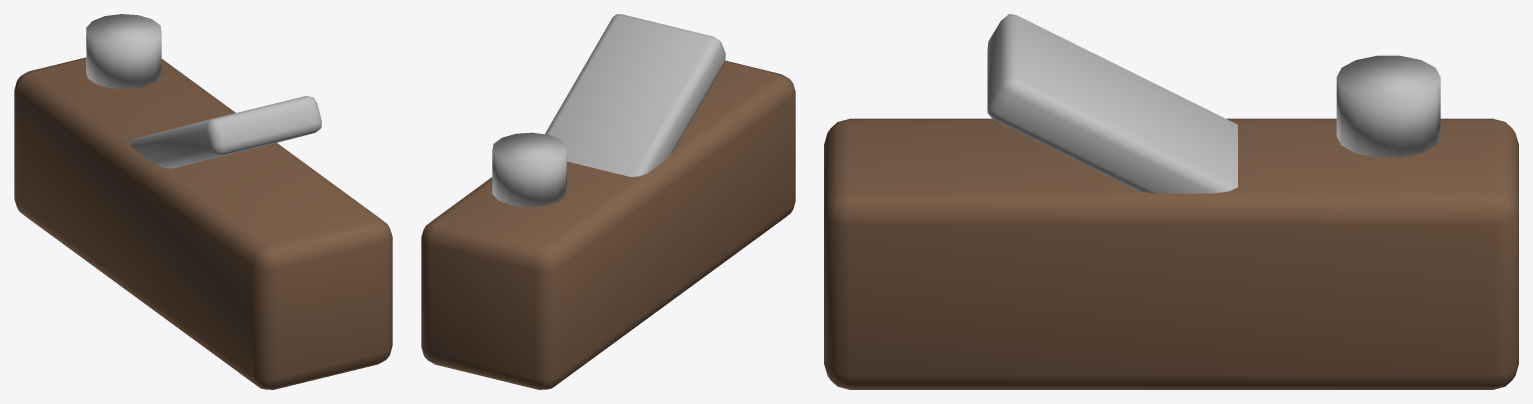
File: fx_block_plane.glb
The picture shows the model from 3 angles, left to right: view 1: azimuth 30°, elevation 25°; view 2: azimuth 150°, elevation 25°; view 3: azimuth 270°, elevation 25°; orthographic projection. The views are drawn at different scales.
Parts seen in each view (by area): view 1: fx_block_plane; view 2: fx_block_plane; view 3: fx_block_plane.
Boxes of the visible parts, <box> form: fx_block_plane: <box>14,14,392,389</box>; fx_block_plane: <box>421,14,795,389</box>; fx_block_plane: <box>824,14,1518,389</box>.
Size of the model in its own units: 0.05 by 0.0779 by 0.16.
